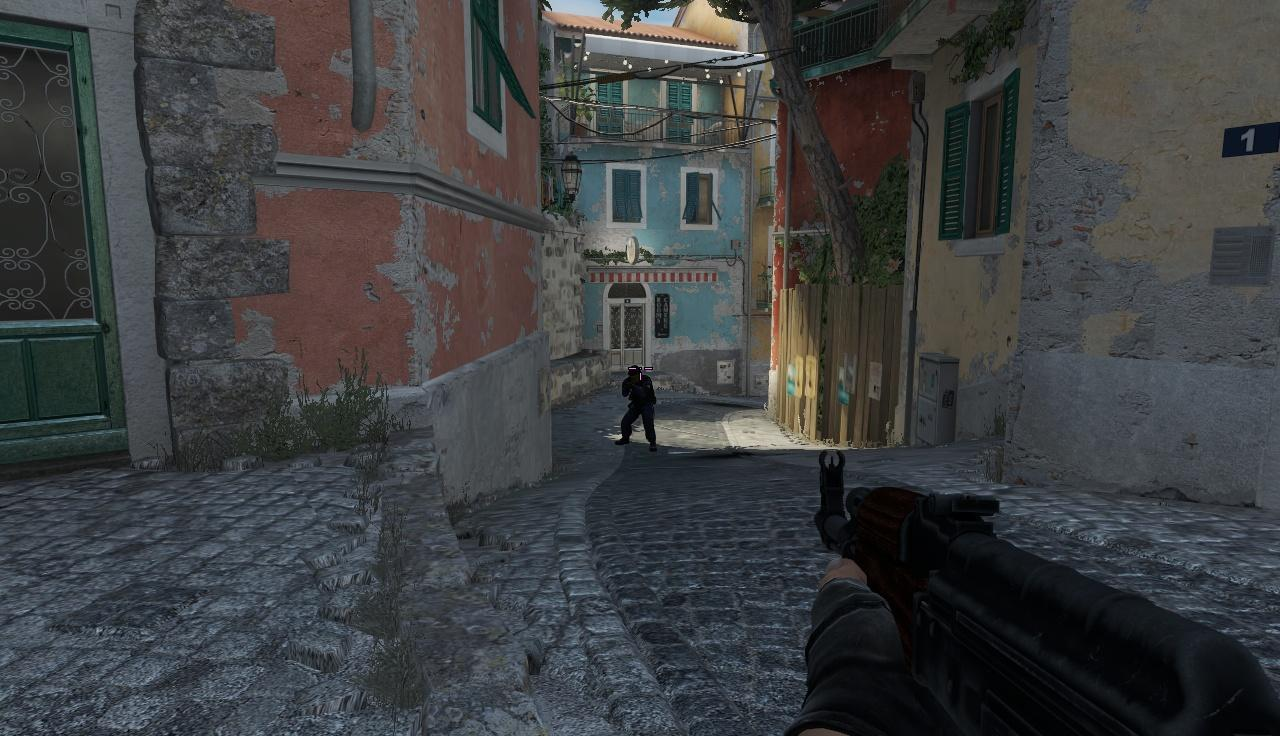ct: (621, 365, 655, 451)
cthead: (629, 365, 644, 381)
rifle: (813, 447, 1280, 732)
